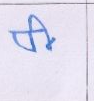i_matra: (32, 15, 55, 50)
